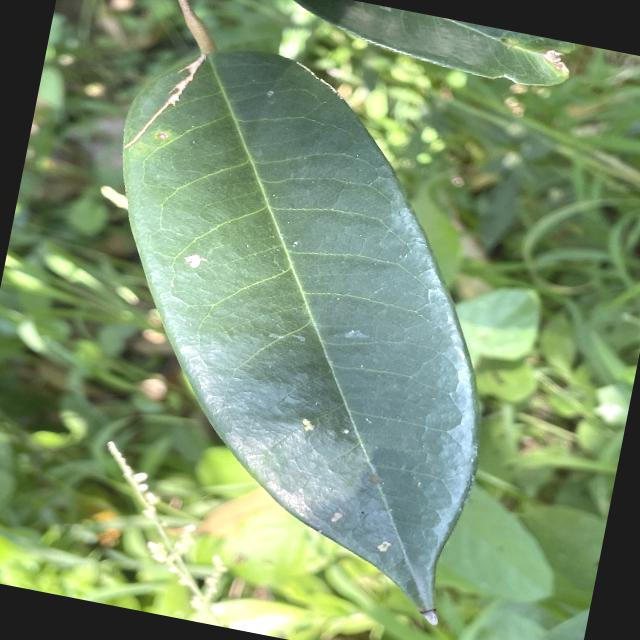No Disease: (31, 16, 557, 639)
